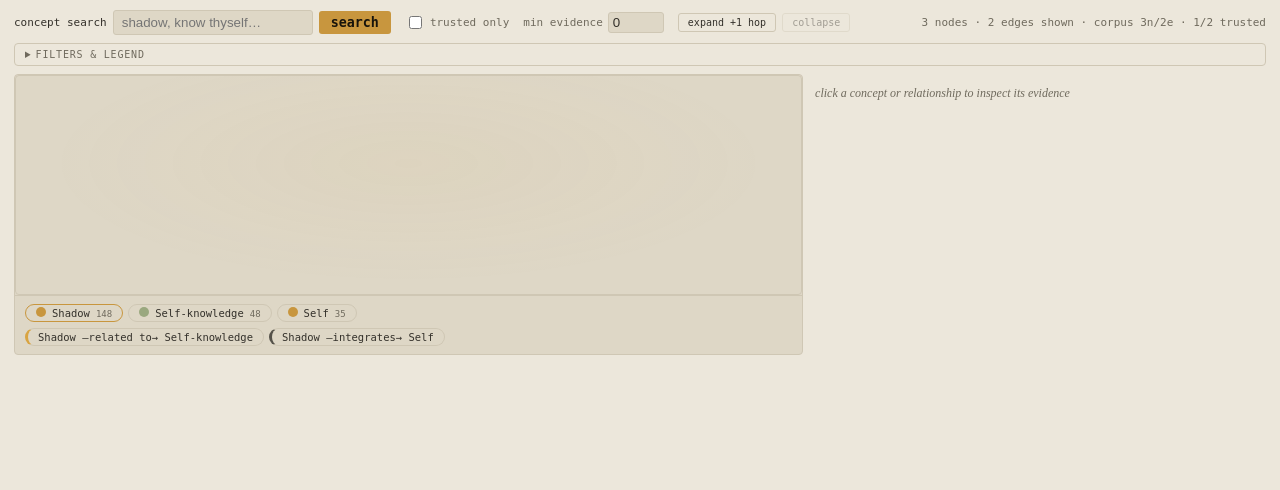
Test: GraphTab › search finds a concept by alias and centers it
The width and height of the screenshot is (1280, 490).
Type "know thyself" into the field labelled "concept search".
click(213, 22); type("know thyself")  # box 113,10 -> 313,35
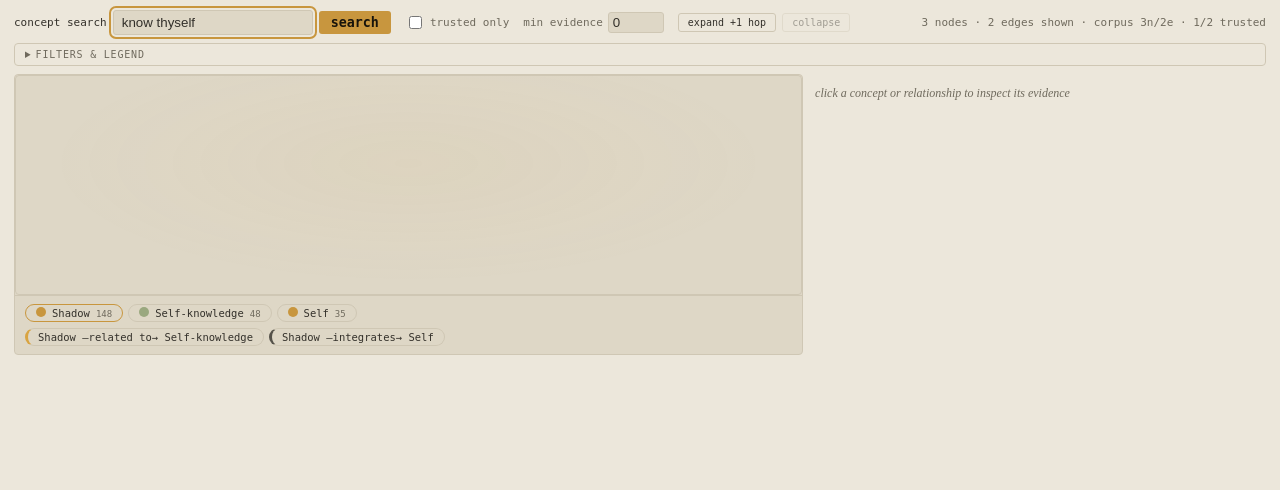
Click the button "search".
click(355, 22)  # box 319,11 -> 391,34
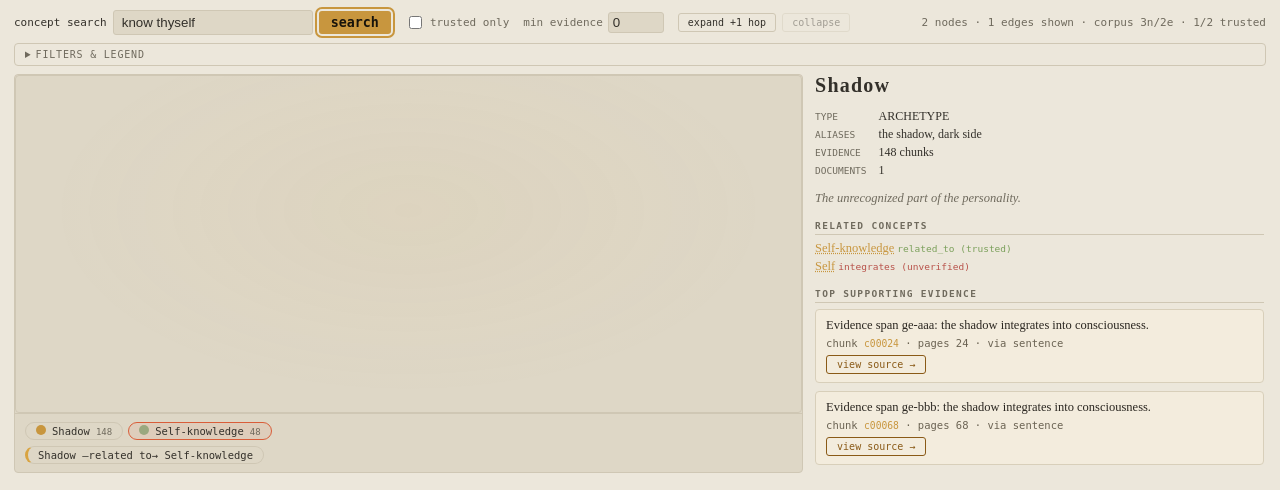
Check: the element with test id "node-detail" shows "Self-knowledge", box 815,240 -> 894,256
